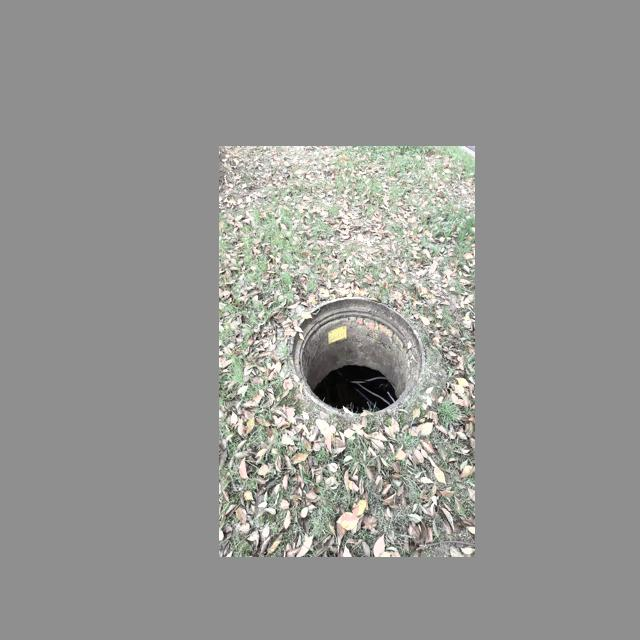lose: (288, 296, 425, 418)
